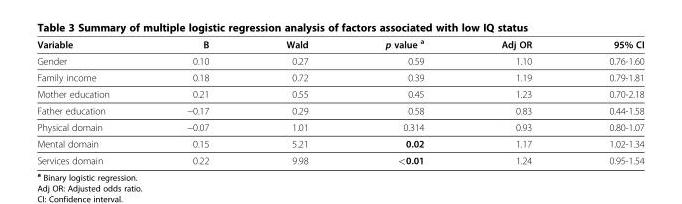table: (36, 36, 643, 165)
table column: (346, 36, 462, 165), (36, 36, 147, 165), (462, 36, 569, 165), (246, 36, 346, 165), (147, 36, 246, 165), (569, 36, 643, 165)
table column header: (36, 36, 643, 52)
table row: (36, 68, 643, 85), (36, 101, 643, 118), (36, 118, 643, 135), (36, 36, 643, 52), (36, 52, 643, 68), (36, 85, 643, 101), (36, 135, 643, 151), (36, 151, 643, 165)
